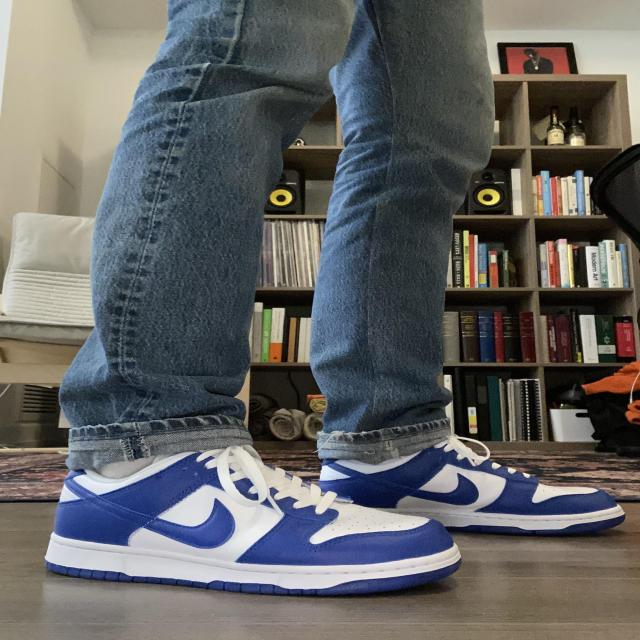shoe: (23, 389, 426, 640), (300, 321, 608, 562)
